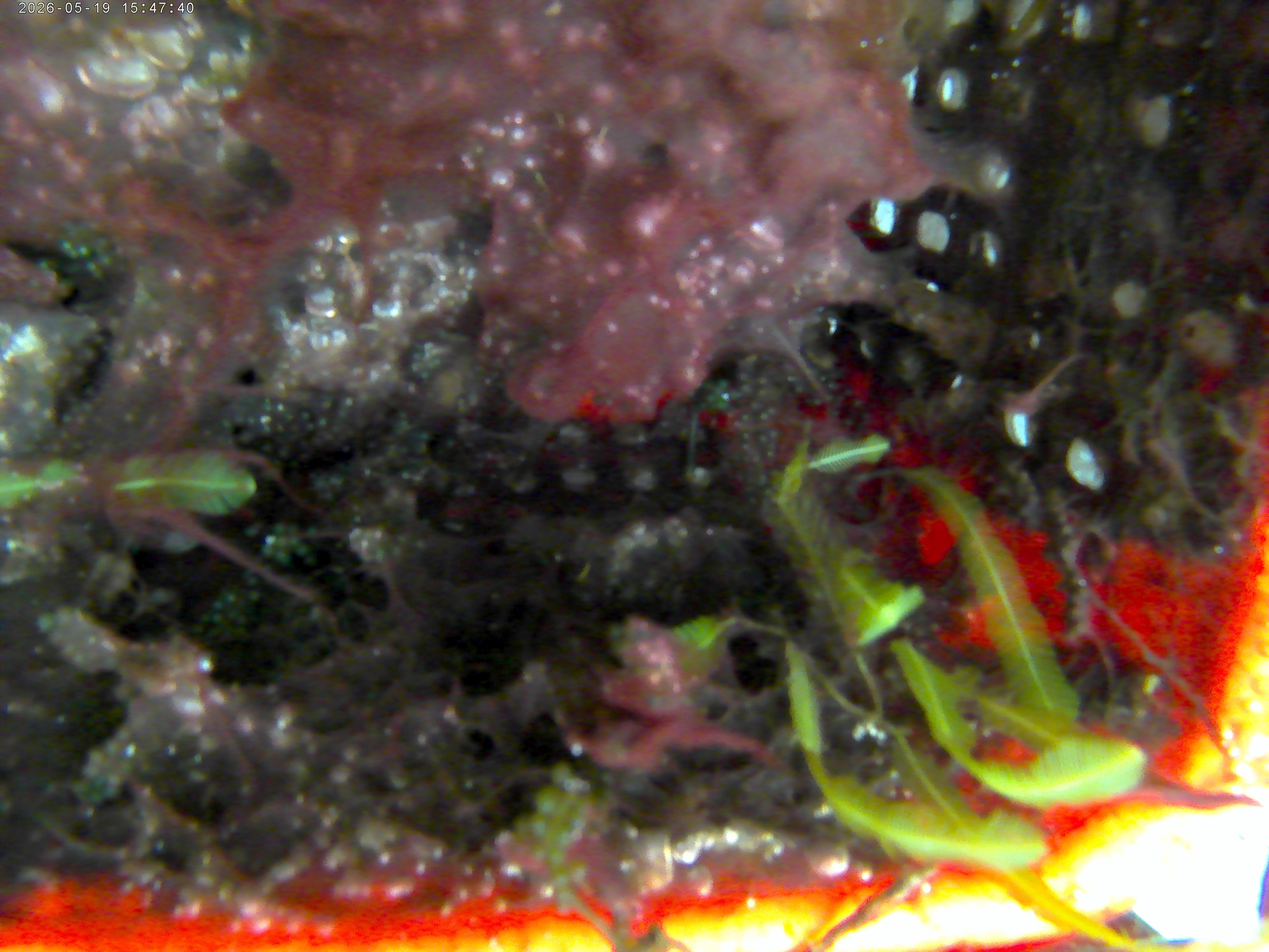Darkening: (330, 765, 352, 785), (313, 832, 332, 851), (342, 745, 361, 763)
Harvestable: (534, 787, 564, 819), (546, 846, 569, 869), (528, 815, 550, 838), (56, 607, 75, 628), (37, 612, 55, 632), (20, 396, 38, 414), (79, 346, 97, 363), (241, 477, 257, 495), (83, 763, 100, 779), (608, 624, 625, 640), (72, 780, 89, 795), (106, 740, 121, 756), (275, 550, 290, 564), (98, 253, 112, 267), (273, 522, 286, 535), (275, 535, 288, 548), (295, 544, 308, 556), (78, 245, 90, 257), (287, 535, 299, 547), (85, 261, 97, 273), (224, 592, 236, 604), (212, 600, 224, 611), (266, 535, 276, 545)
Whitening: (302, 285, 337, 317), (310, 331, 332, 351), (289, 323, 306, 339)
